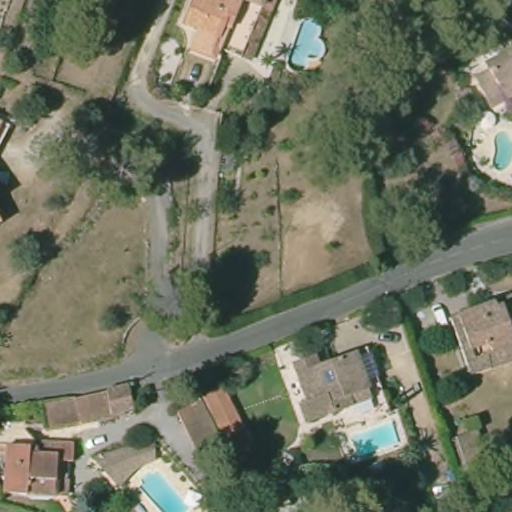pool: (124, 461, 194, 512), (285, 14, 335, 78), (335, 419, 404, 457), (485, 124, 512, 173)
